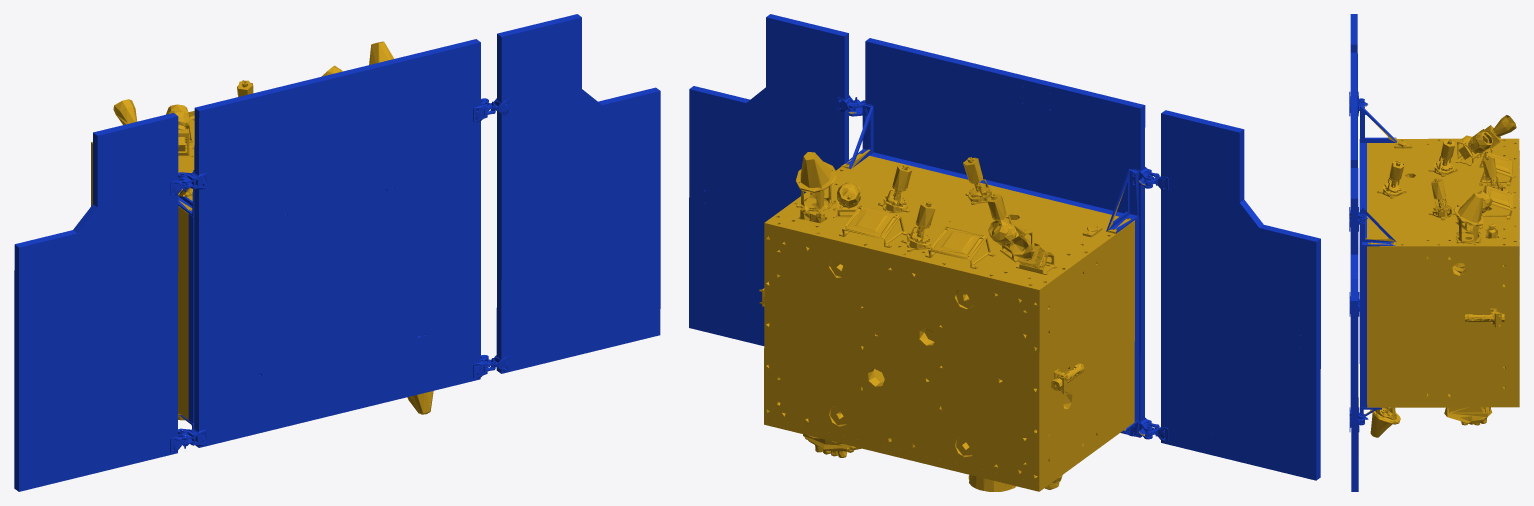
Rendered from weixing.glb.
The picture shows the model from 3 angles, left to right: view 1: azimuth 30°, elevation 25°; view 2: azimuth 150°, elevation 25°; view 3: azimuth 270°, elevation 25°; orthographic projection. The views are drawn at different scales.
Parts seen in each view (by area): view 1: ggp03; view 2: ggp03; view 3: ggp03.
Boxes of the visible parts, x1,y1,x2,y2 form: ggp03: (14,14,660,491); ggp03: (689,14,1320,491); ggp03: (1349,14,1519,491).
Bounding box in the file's own units: 9.42 × 5.24 × 2.77.
